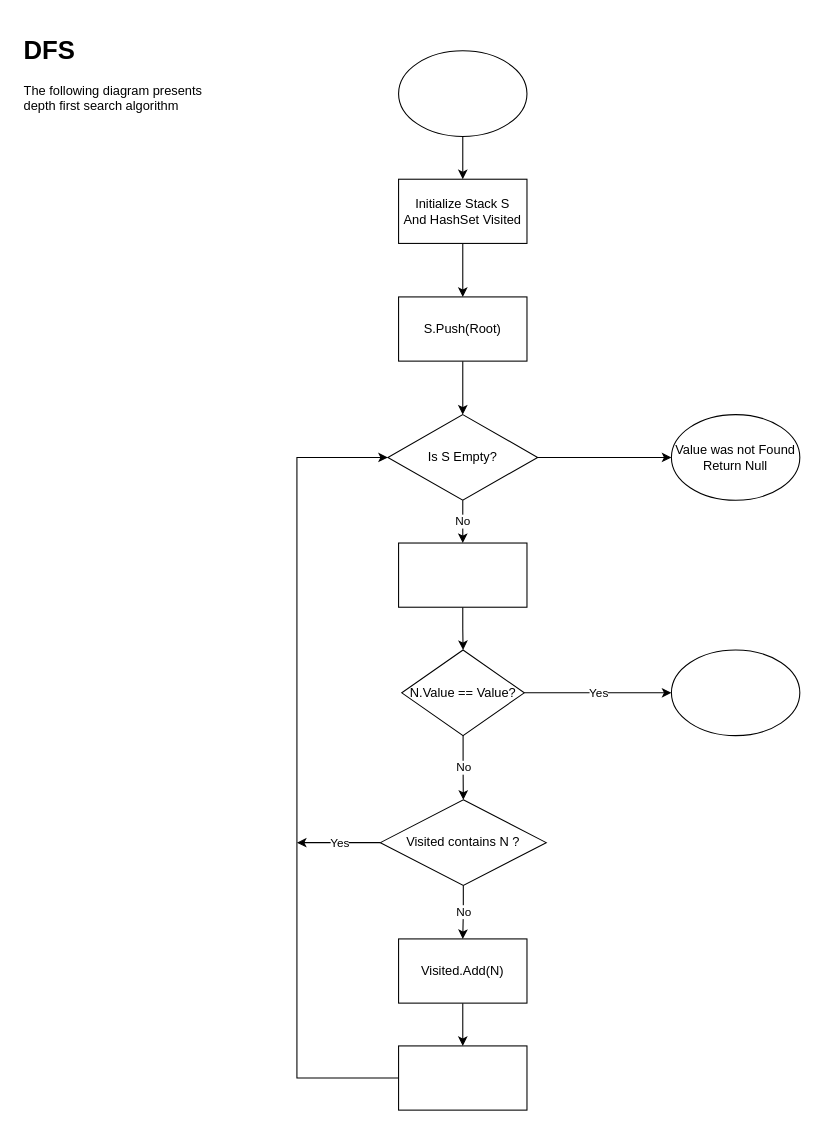
Image size: 819x1129. Some labels were removed from this diagram. The shapes that lost their labels are listed below. From the top down, each one's centre as x and y in pixels, then its label:
At (462,93): "Start (Graph Root, T Value)".
At (462,574): "N = S.Pop()".
At (735,692): "Return N".
At (462,1077): "Push all N.Neighbours onto S".
